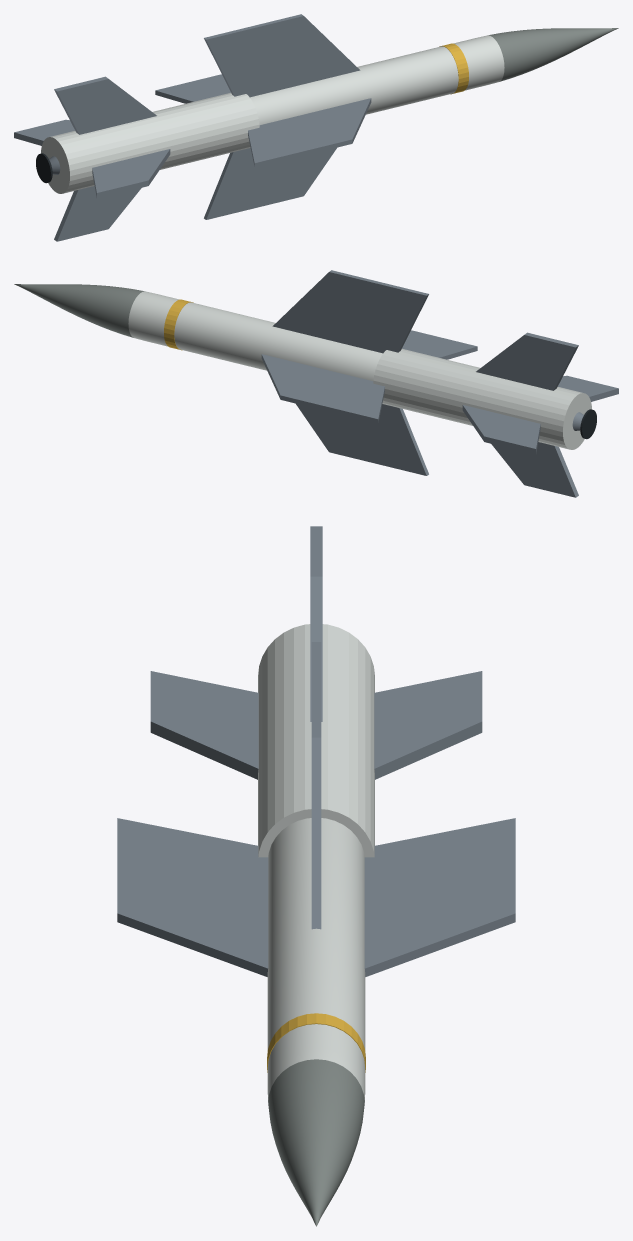
File: aster30_family.glb
The picture shows the model from 3 angles, top to bottom: view 1: azimuth 30°, elevation 25°; view 2: azimuth 150°, elevation 25°; view 3: azimuth 270°, elevation 25°; orthographic projection. The views are drawn at different scales.
Visible parts, largest first — view 1: aster30_family; view 2: aster30_family; view 3: aster30_family.
Part boxes in pixels (box(x1,y1,x2,y2)): aster30_family: box(14, 14, 618, 241); aster30_family: box(14, 270, 618, 497); aster30_family: box(117, 526, 515, 1226).
Size of the model in its own units: 10 by 2.99 by 2.99.
